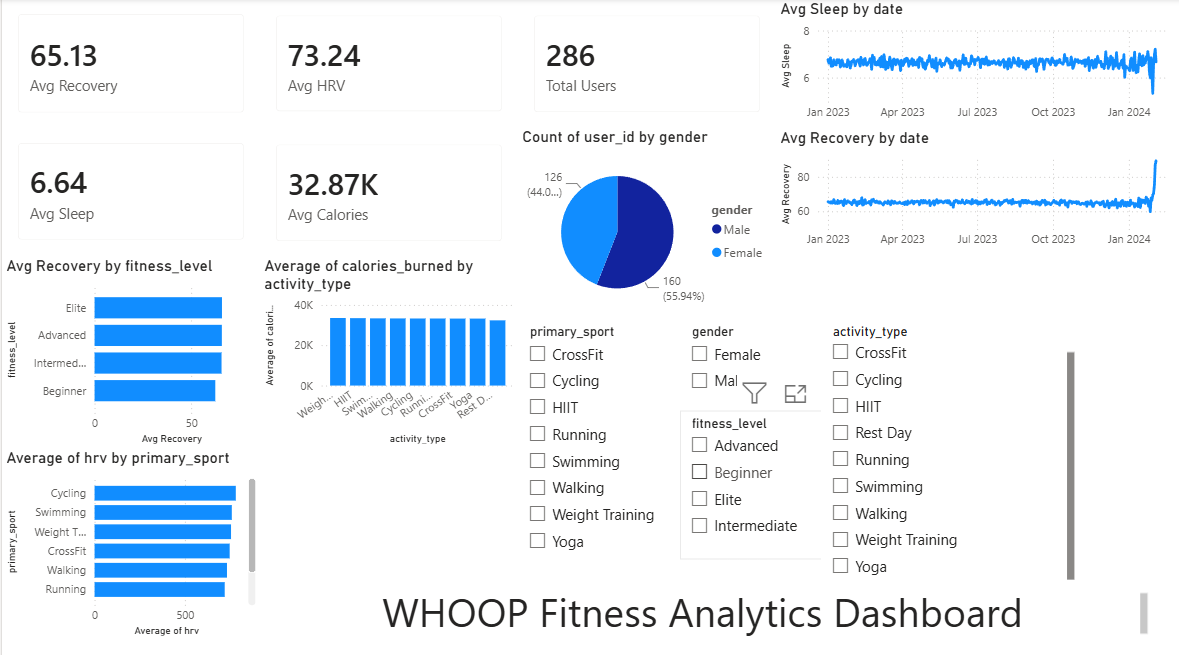

The dashboard page shown, as its layout file describes it:
{"tool":"powerbi","page":{"name":"Page 1","canvas":[1280,720],"ordinal":0},"visuals":[{"type":"cardVisual","fields":{"Data":["fact_fitness.Avg Sleep"]},"box":[0,139.8,279.6,139.8],"z":0},{"type":"cardVisual","fields":{"Data":["fact_fitness.Avg HRV"]},"box":[279.6,1.6,279.6,138.2],"z":1000},{"type":"cardVisual","fields":{"Data":["fact_fitness.Avg Calories"]},"box":[279.6,141.4,279.6,139.8],"z":2000},{"type":"cardVisual","fields":{"Data":["fact_fitness.Total Users"]},"box":[559.3,1.6,279.6,139.8],"z":3000},{"type":"lineChart","fields":{"Category":["fact_fitness.date"],"Y":["fact_fitness.Avg Recovery"]},"box":[838.9,141.4,440.6,138.2],"z":4000},{"type":"lineChart","fields":{"Category":["fact_fitness.date"],"Y":["fact_fitness.Avg Sleep"]},"box":[838.9,1.6,440.6,139.8],"z":5000},{"type":"clusteredBarChart","fields":{"Category":["dim_user.fitness_level"],"Y":["fact_fitness.Avg Recovery"]},"box":[0,279.6,279.6,208.1],"z":6000},{"type":"clusteredColumnChart","fields":{"Category":["fact_fitness.activity_type"],"Y":["Avg(fact_fitness.calories_burned)"]},"box":[279.6,279.6,279.6,208.1],"z":7000},{"type":"clusteredBarChart","fields":{"Category":["dim_user.primary_sport"],"Y":["Avg(fact_fitness.hrv)"]},"box":[0,487.7,279.6,208.1],"z":8000},{"type":"pieChart","fields":{"Category":["dim_user.gender"],"Y":["CountNonNull(dim_user.user_id)"]},"box":[559.3,139.8,279.6,208.1],"z":9000},{"type":"slicer","fields":{"Values":["dim_user.gender"]},"box":[734.8,347.9,112.2,89.4],"z":10000},{"type":"slicer","fields":{"Values":["dim_user.fitness_level"]},"box":[734.8,447.1,190.2,160.9],"z":11000},{"type":"slicer","fields":{"Values":["dim_user.primary_sport"]},"box":[559.3,347.9,175.6,260.1],"z":12000},{"type":"slicer","fields":{"Values":["fact_fitness.activity_type"]},"box":[887.7,347.9,279.6,287.8],"z":13000},{"type":"cardVisual","fields":{"Data":["fact_fitness.Avg Recovery"]},"box":[0,0,279.6,141.4],"z":14000},{"type":"textbox","box":[279.6,635.7,967.3,60.2],"z":14001}]}

Visuals, with their boxes in screenshot pixels (x1, y1, x2, y2), scaled from the page's 1280x720 canvas onto the 1179x655 screenshot:
cardVisual - fact_fitness.Avg Sleep: crop(0, 127, 258, 254)
cardVisual - fact_fitness.Avg HRV: crop(258, 1, 515, 127)
cardVisual - fact_fitness.Avg Calories: crop(258, 129, 515, 256)
cardVisual - fact_fitness.Total Users: crop(515, 1, 773, 129)
lineChart - fact_fitness.date x fact_fitness.Avg Recovery: crop(773, 129, 1178, 254)
lineChart - fact_fitness.date x fact_fitness.Avg Sleep: crop(773, 1, 1178, 129)
clusteredBarChart - dim_user.fitness_level x fact_fitness.Avg Recovery: crop(0, 254, 258, 444)
clusteredColumnChart - fact_fitness.activity_type x Avg(fact_fitness.calories_burned): crop(258, 254, 515, 444)
clusteredBarChart - dim_user.primary_sport x Avg(fact_fitness.hrv): crop(0, 444, 258, 633)
pieChart - dim_user.gender x CountNonNull(dim_user.user_id): crop(515, 127, 773, 316)
slicer - dim_user.gender: crop(677, 316, 780, 398)
slicer - dim_user.fitness_level: crop(677, 407, 852, 553)
slicer - dim_user.primary_sport: crop(515, 316, 677, 553)
slicer - fact_fitness.activity_type: crop(818, 316, 1075, 578)
cardVisual - fact_fitness.Avg Recovery: crop(0, 0, 258, 129)
textbox: crop(258, 578, 1149, 633)
